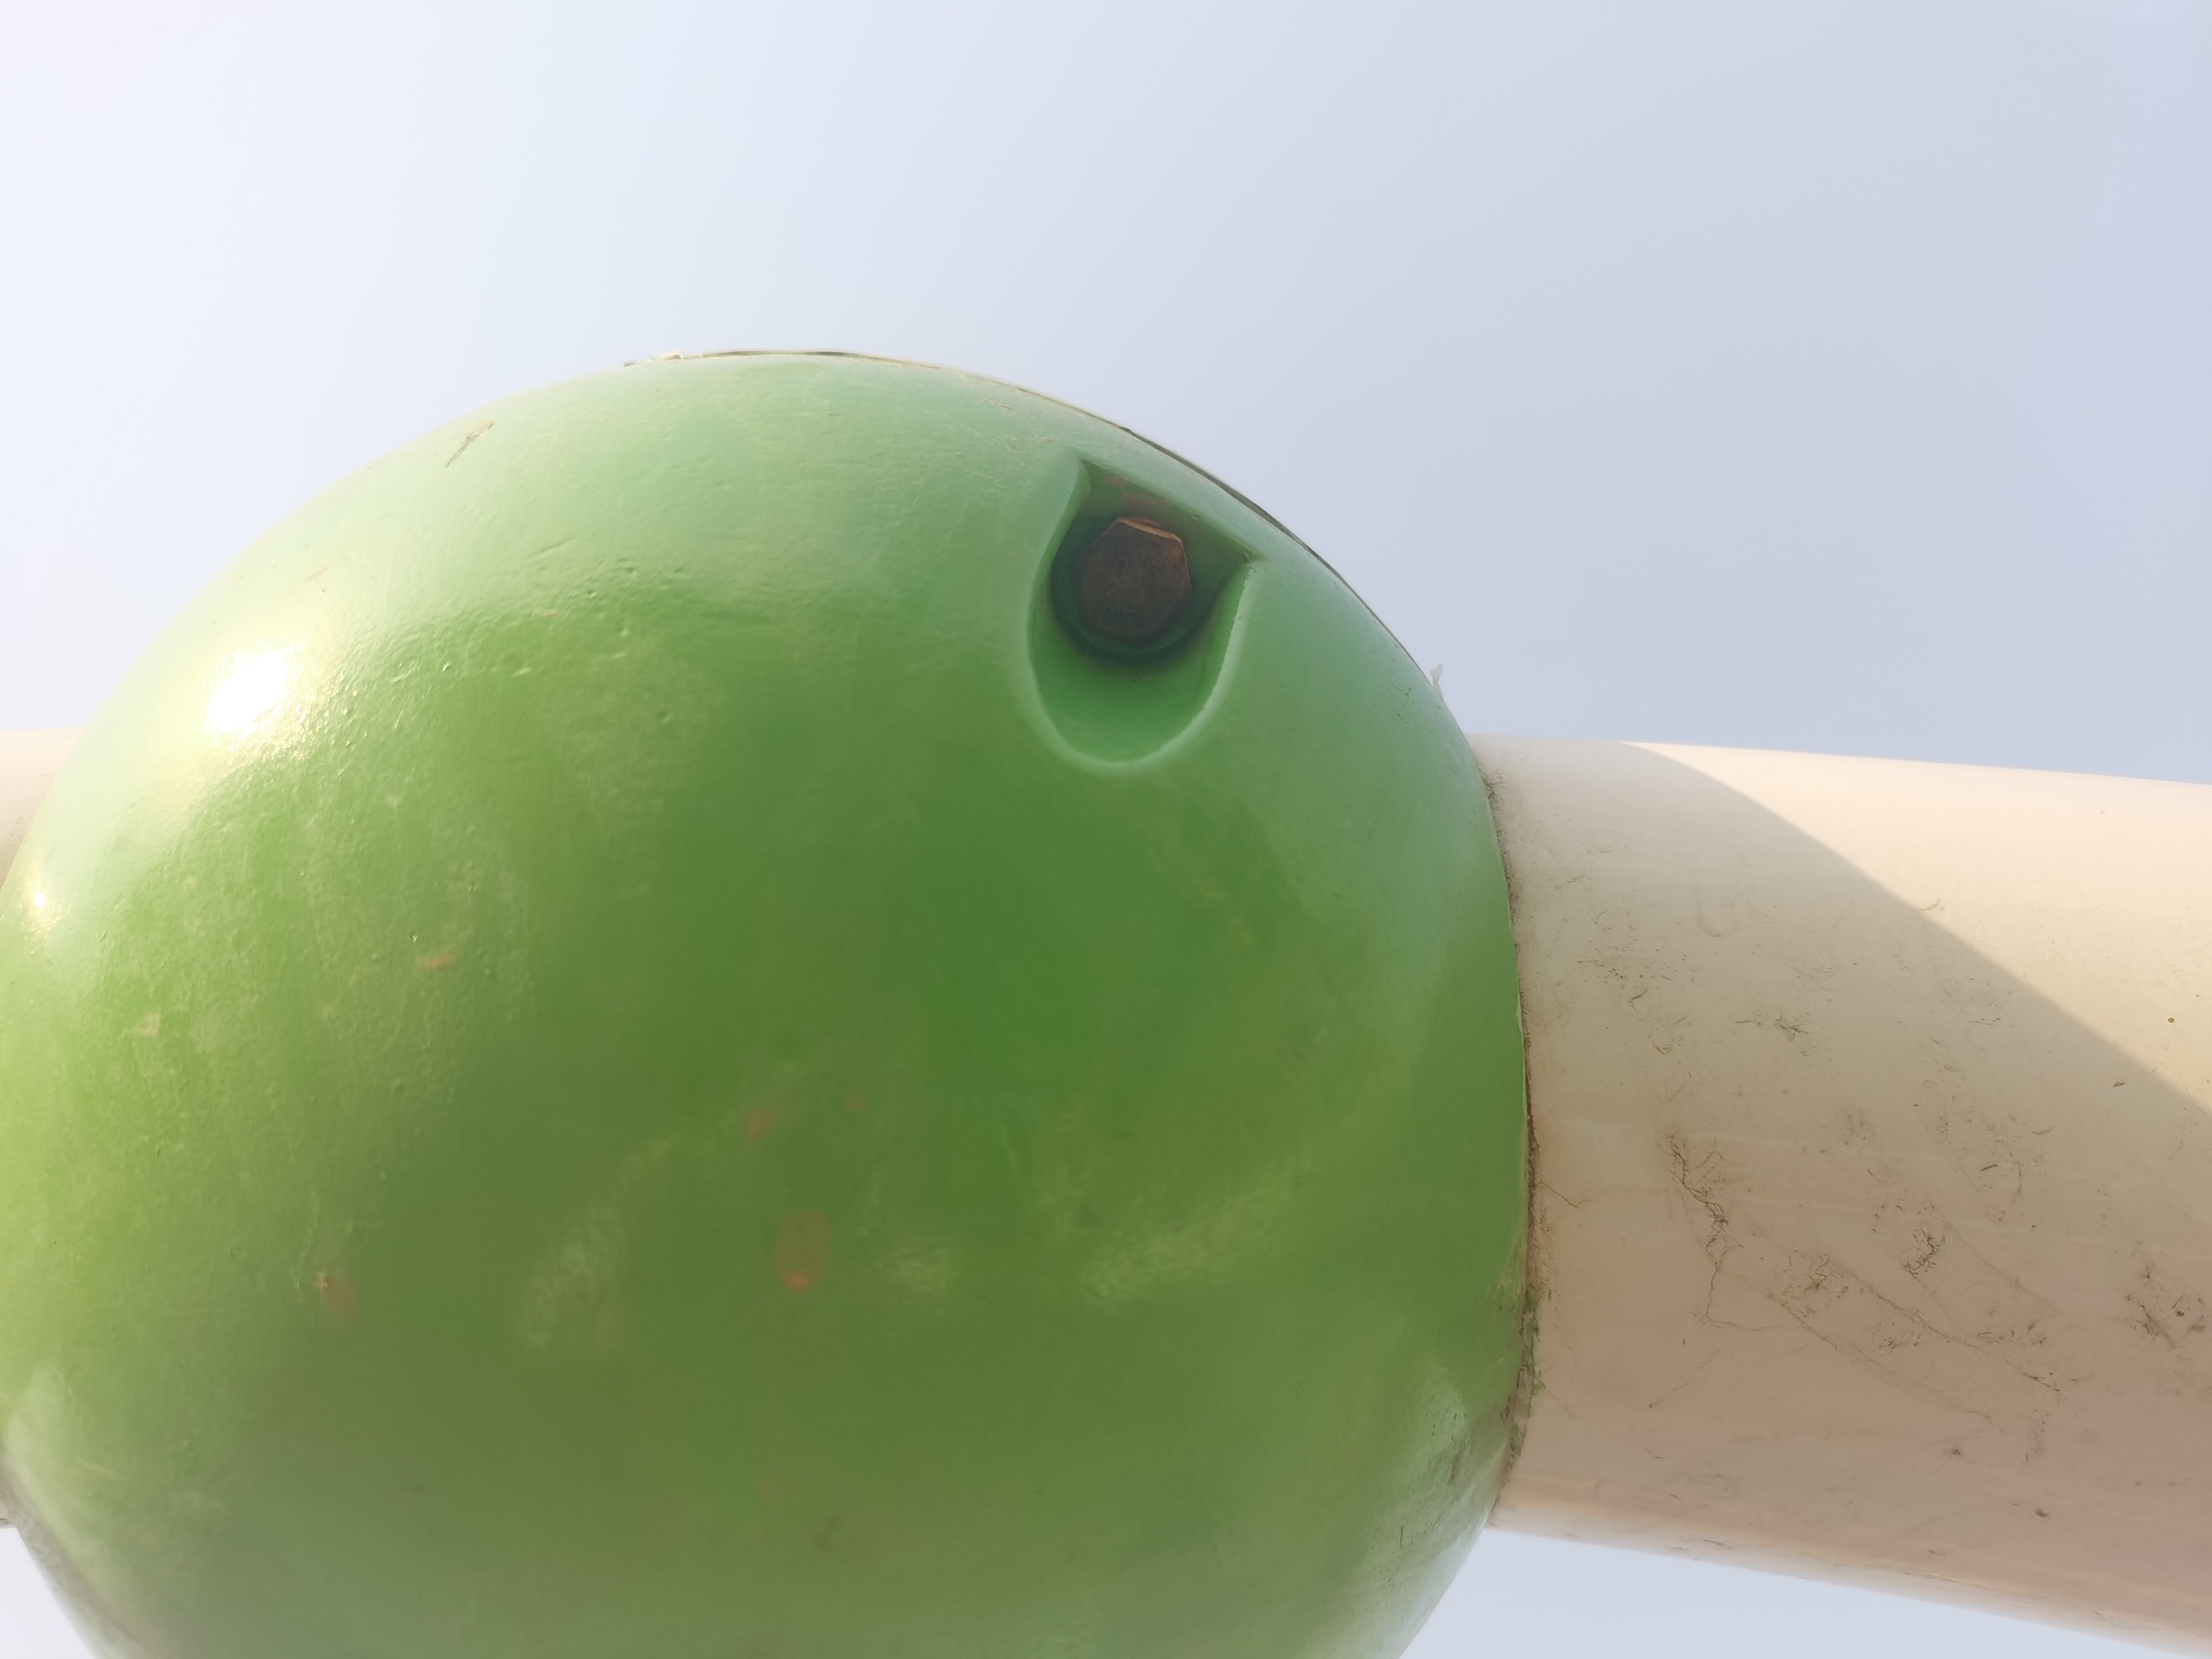bolt_a: (1061, 512, 1200, 652)
